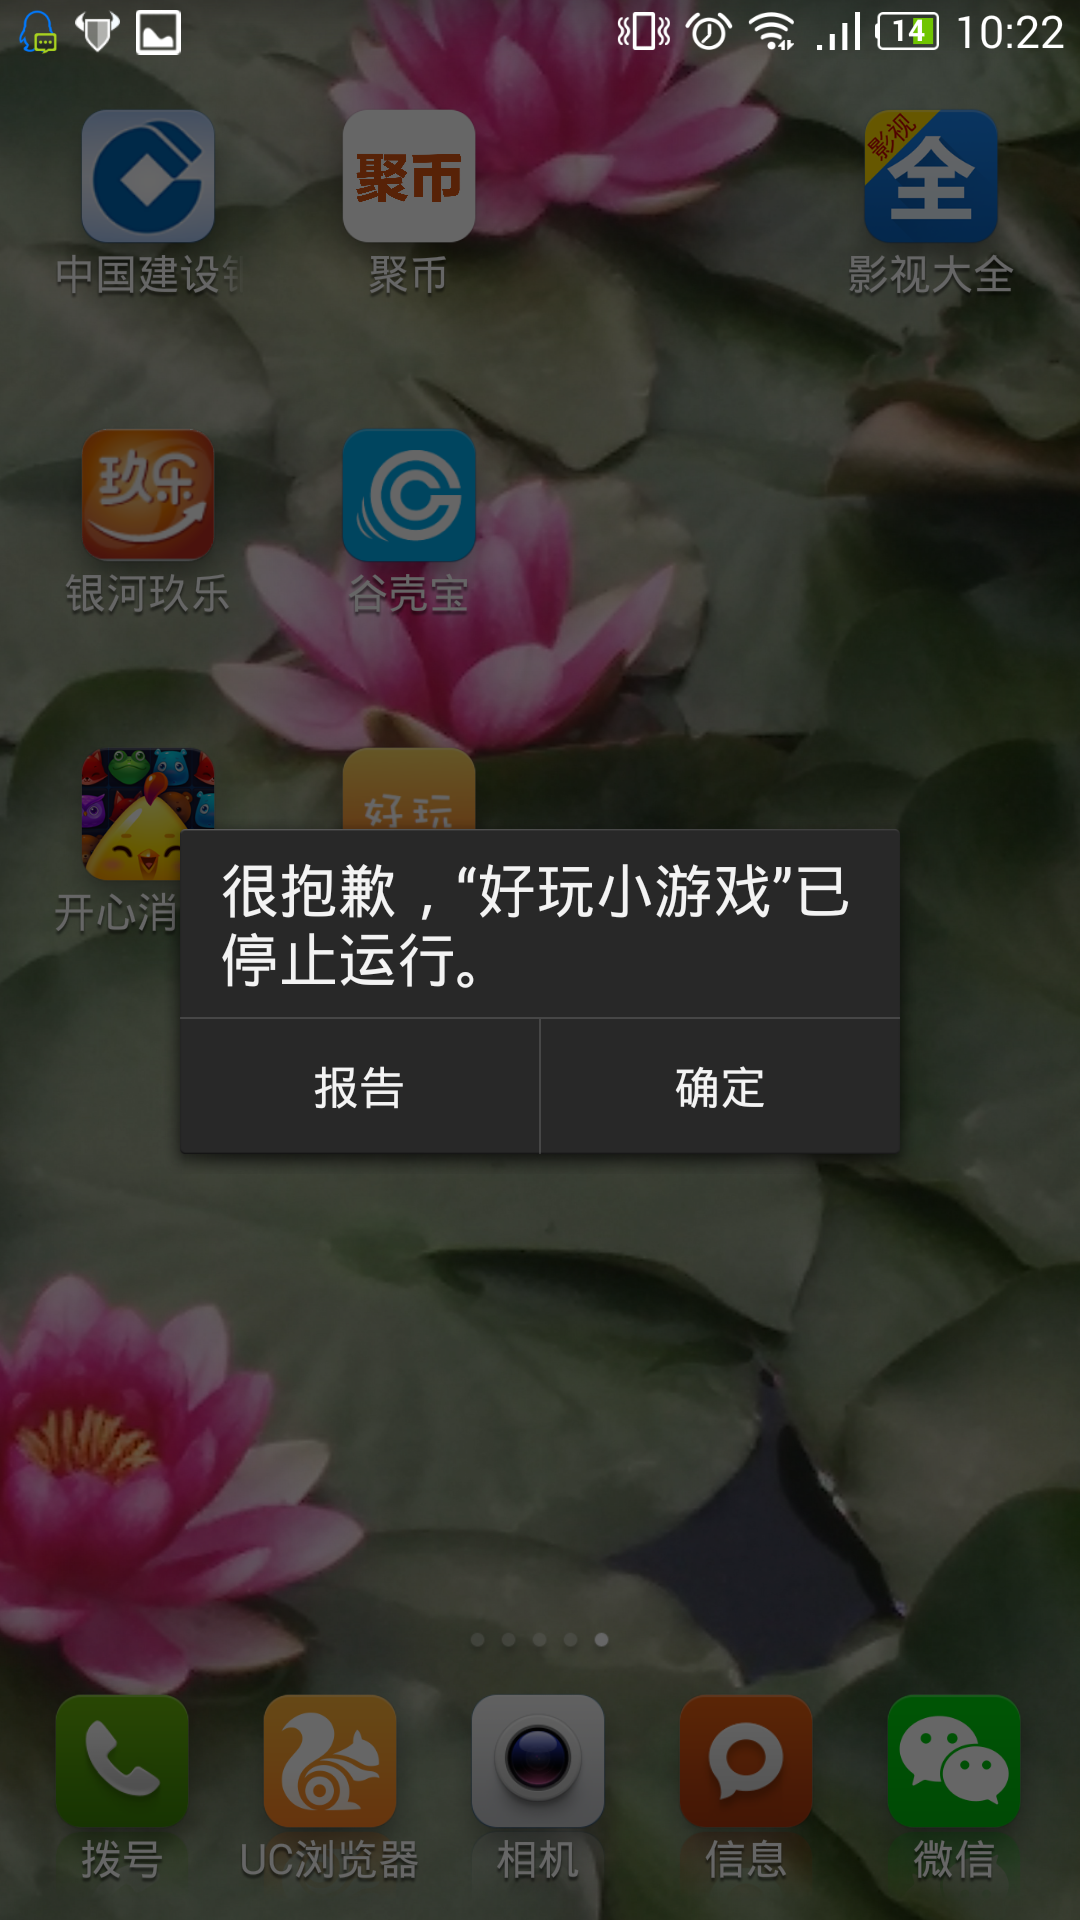alert: (171, 816, 910, 1170)
button: (527, 1000, 920, 1170), (173, 1007, 555, 1176)
textview: (204, 861, 869, 996)
